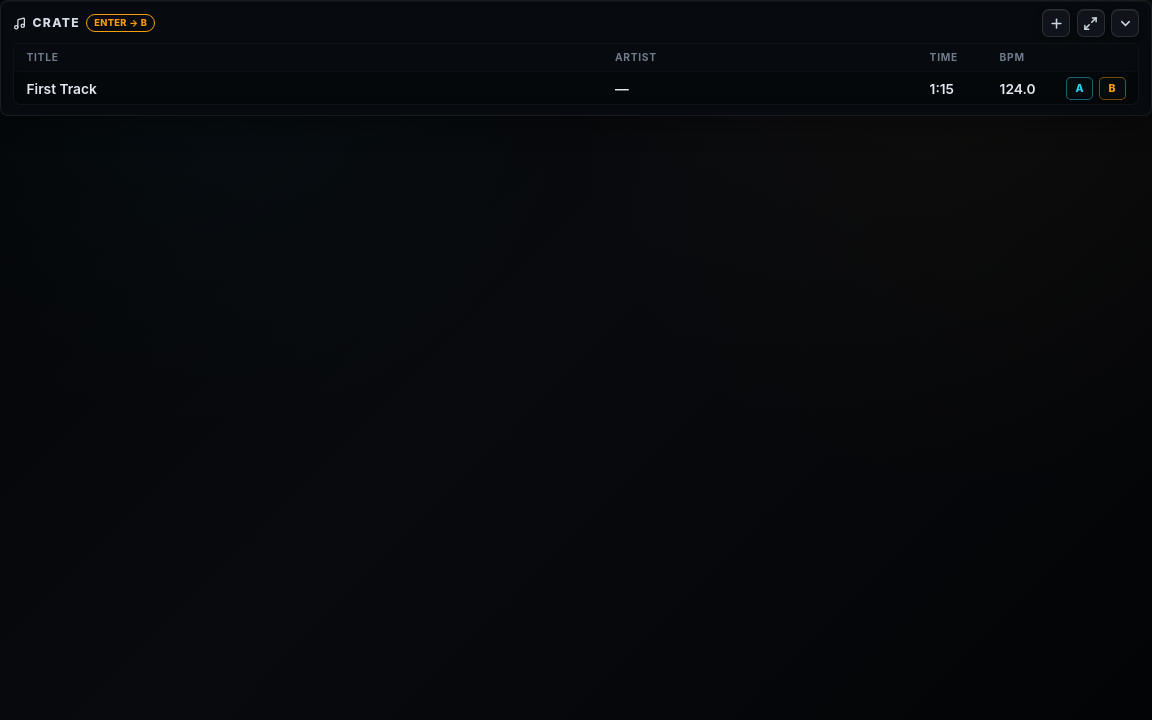
Scenario: LibraryPanel › loads focused tracks from the expanded crate keyboard flow
Click the button named "Expand crate": (1091, 23) [1077,9,1105,37]
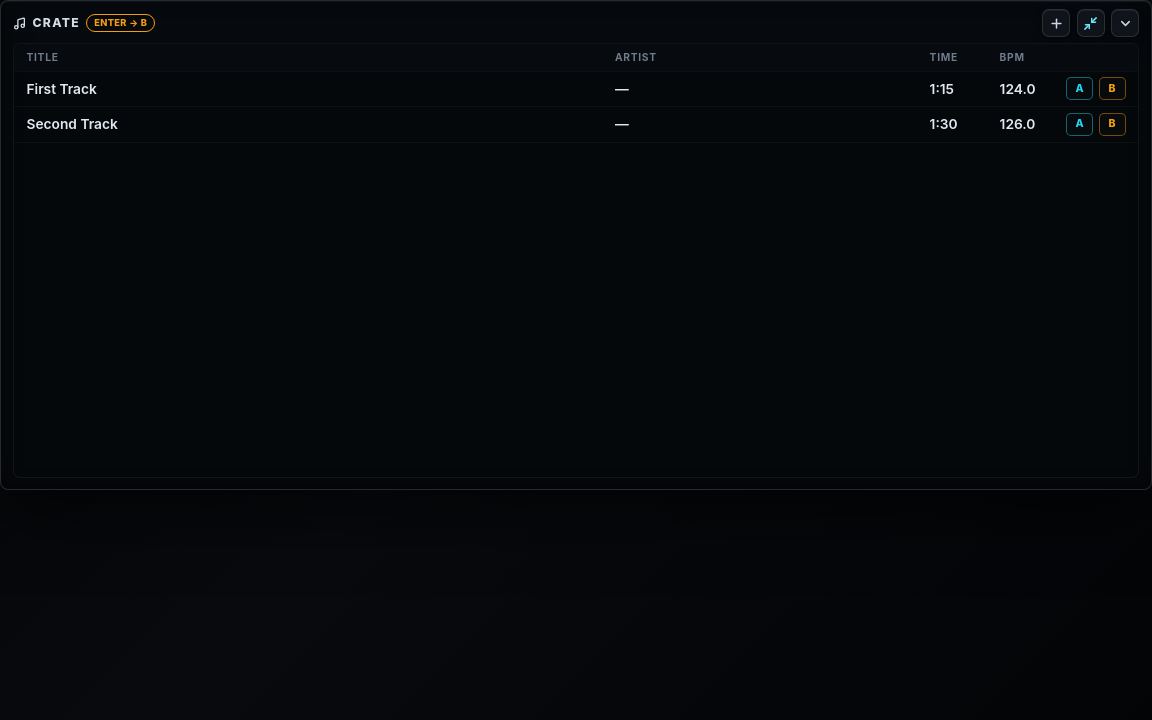
Press ArrowDown in the row named "First Track. Press Enter to load into deck B", box [14,71,1138,107]
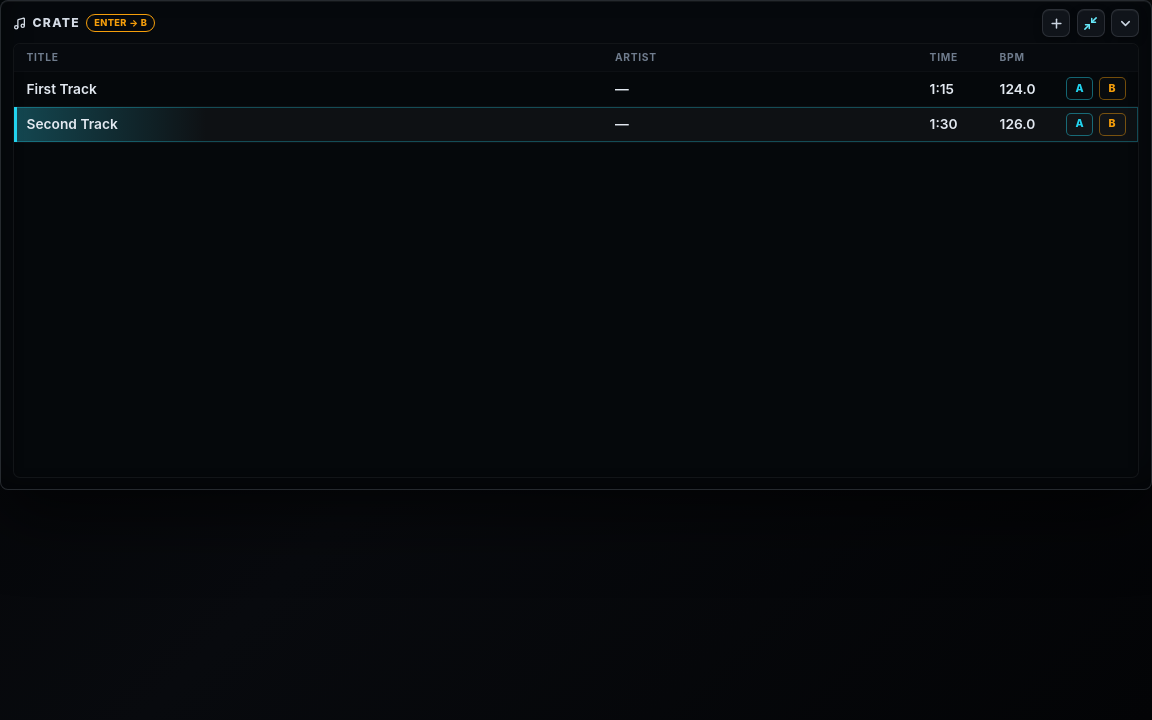
Press Enter in the row named "Second Track. Press Enter to load into deck B", box [14,107,1138,142]
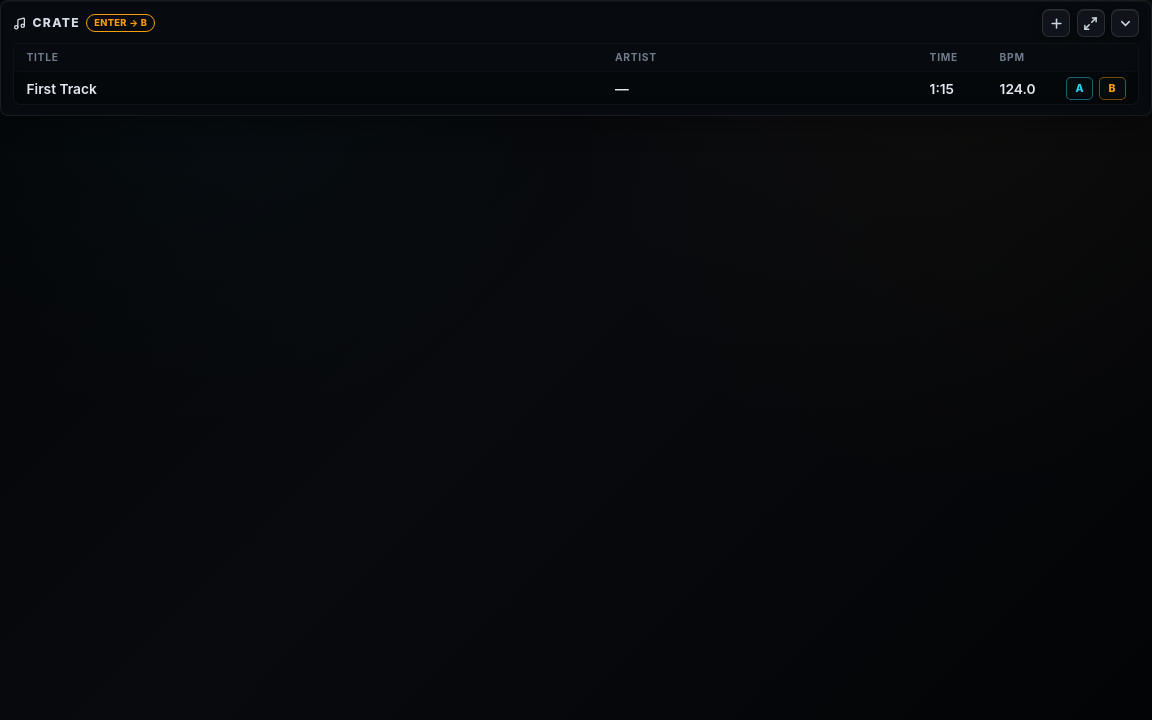
Expected: the button named "Expand crate" is shown, [1077,9,1105,37]
